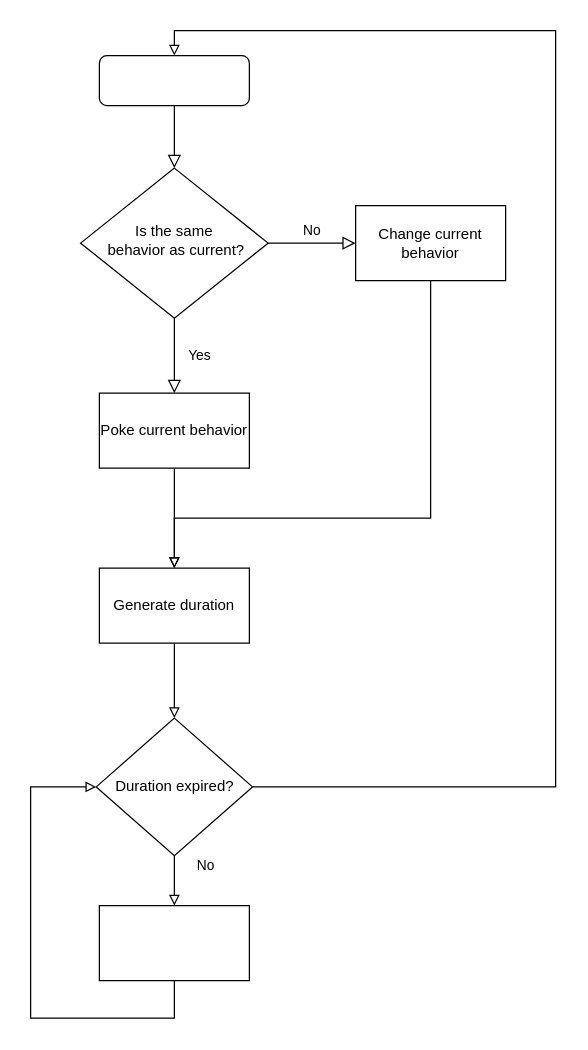
Some shapes in this 588 by 1050 pixel diagram are drawn without their labels. The shapes that lost their labels are listed below. From the top down, each one's centre as x and y in pixels, then its label:
(x=173, y=80): Choose new behavior
(x=173, y=942): Decrease timer
